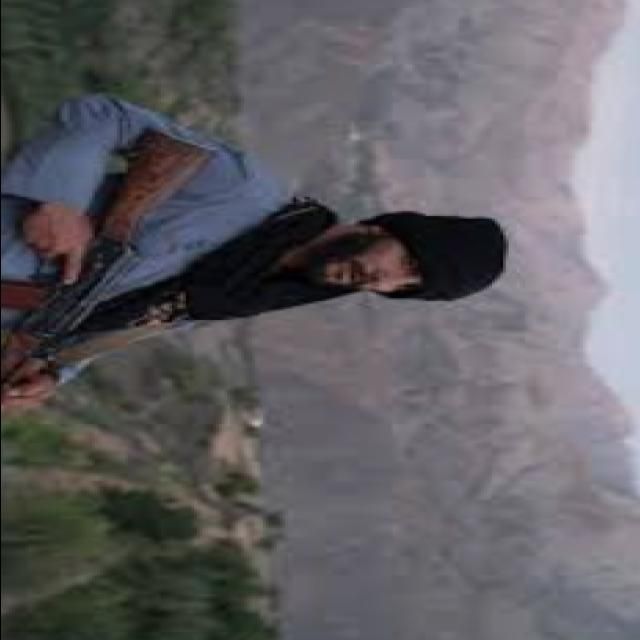terrorist: (0, 96, 508, 408)
